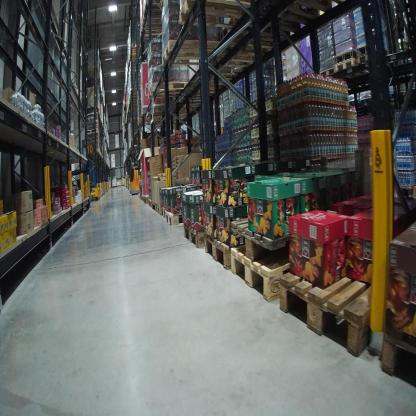forklift: (122, 125, 147, 195)
pallet: (281, 251, 379, 369), (231, 198, 316, 273), (225, 239, 303, 310), (157, 31, 240, 77), (177, 2, 272, 32), (370, 330, 415, 382), (199, 229, 230, 275), (337, 52, 377, 84), (145, 78, 195, 96), (359, 46, 387, 76), (184, 222, 207, 258), (138, 18, 170, 42), (320, 59, 350, 84), (135, 113, 165, 128), (165, 210, 185, 229), (139, 104, 169, 115), (82, 125, 101, 133), (196, 128, 202, 142), (153, 201, 158, 217), (149, 197, 154, 212), (161, 206, 166, 220), (156, 201, 161, 215), (191, 131, 198, 140), (143, 195, 149, 204)
